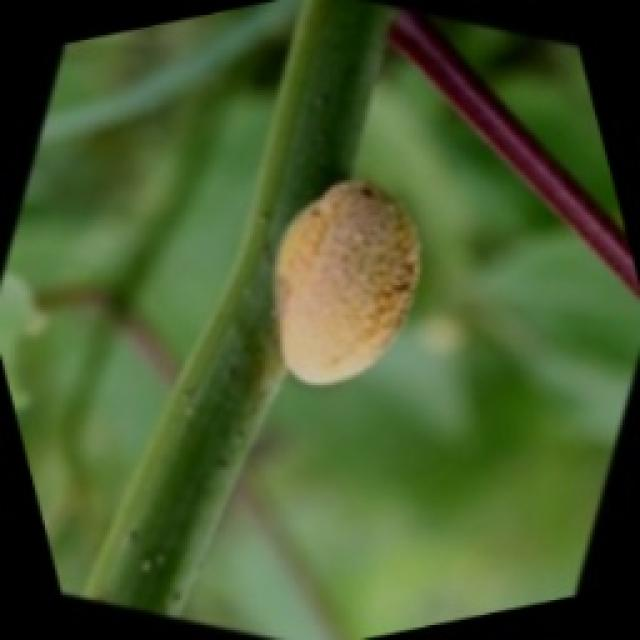Elderberry_rust: (270, 178, 435, 403)
